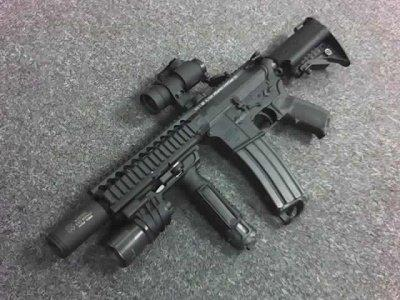rifle: (42, 14, 356, 280)
